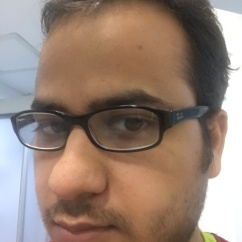glasses: (8, 104, 210, 147)
